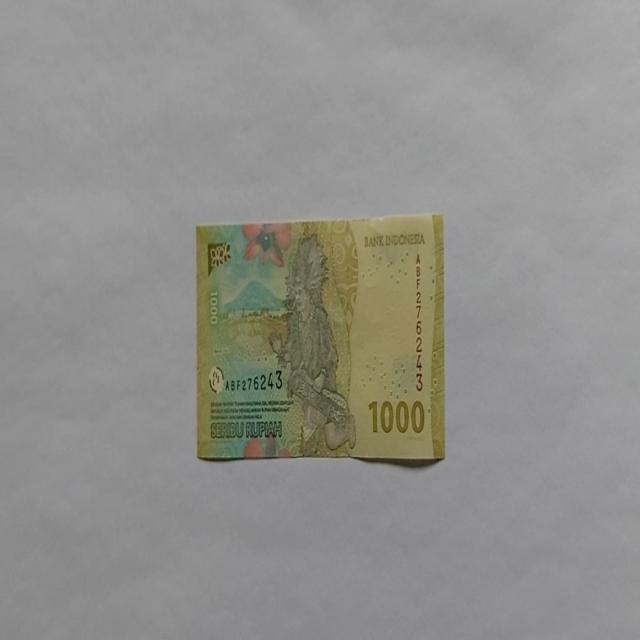seribu rupiah kertas: (194, 212, 446, 464)
